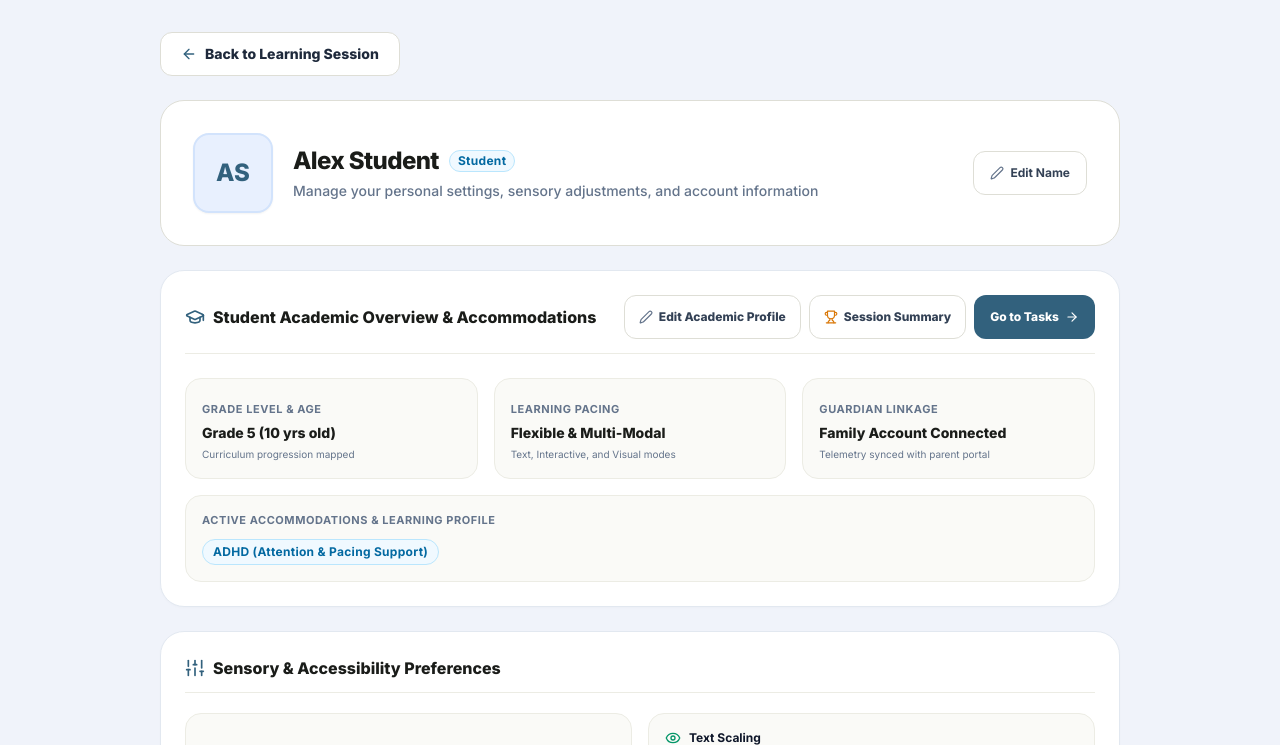
it: ProfilePage Component › allows switching to edit mode for display name
The image size is (1280, 745).
Click the button "Edit Name" at (1030, 173), box [973,151,1087,195]
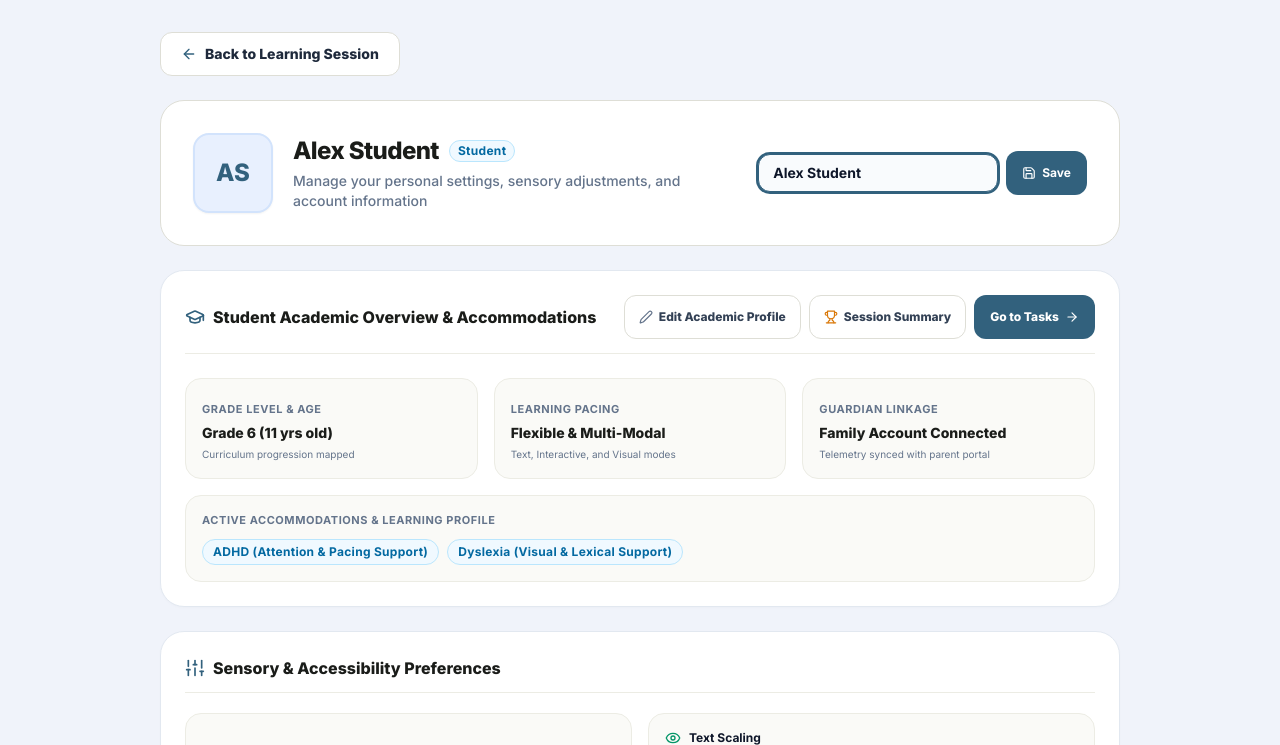
Expected: the field named "display name" holds "Alex Student", [758,154,998,192]
